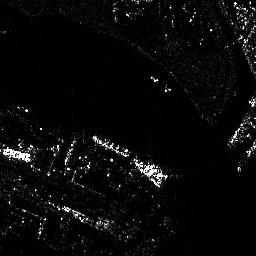ship: (89, 134, 128, 158), (2, 147, 34, 162)
